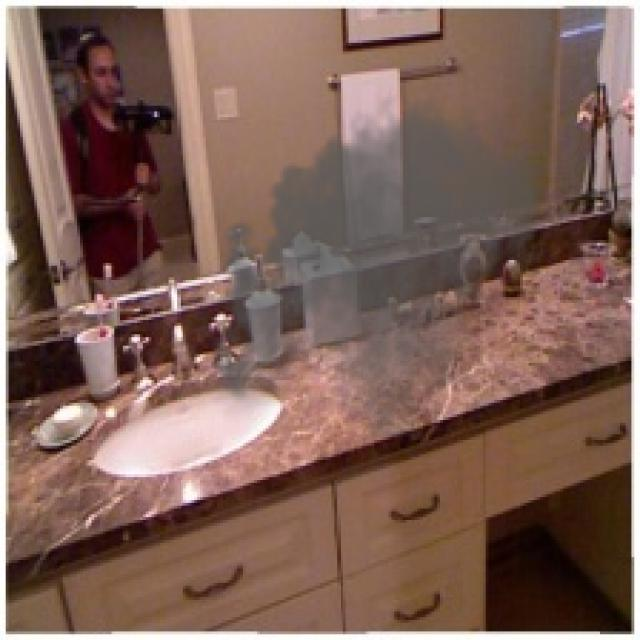smoke: (200, 83, 549, 437)
